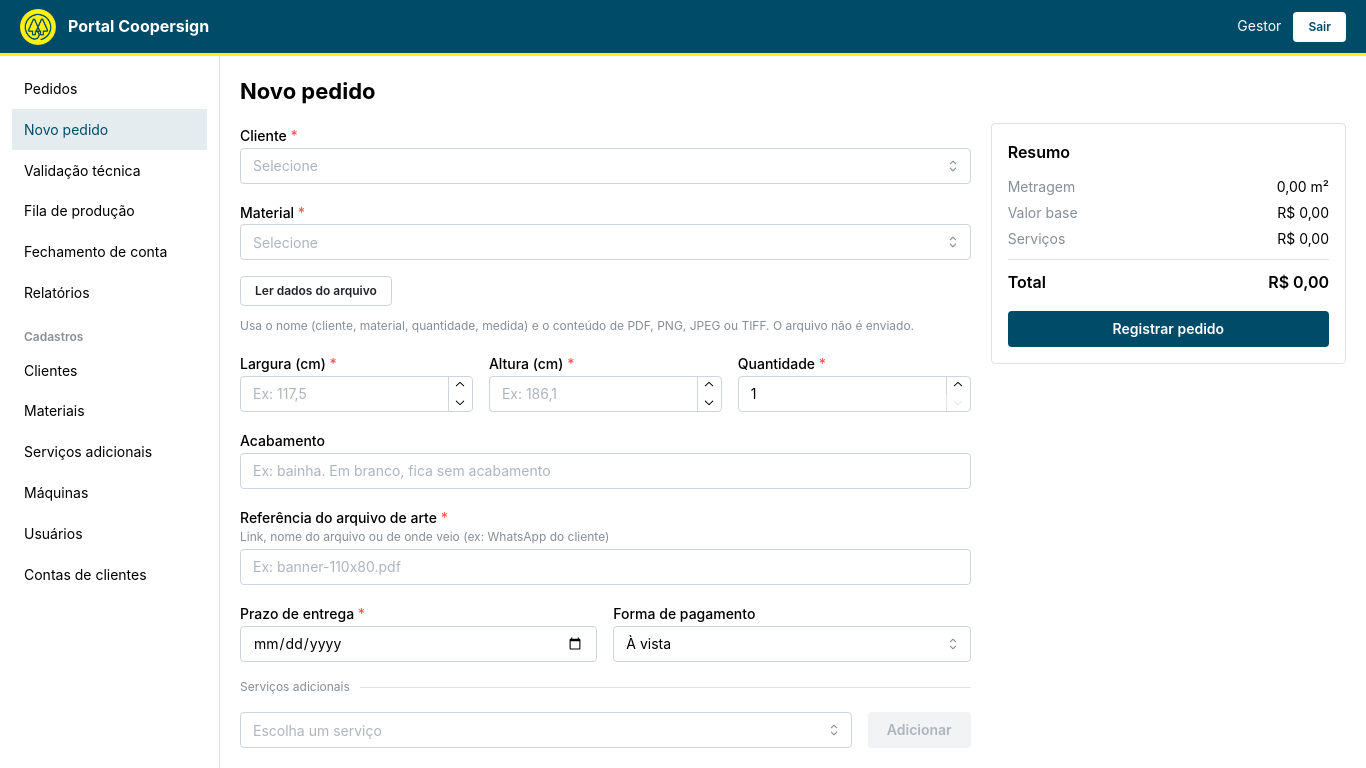
it: Novo pedido (RF05, RF08, RF09, RN16) › calcula na hora e cobra o mínimo de 1 m² por unidade
Expected: the heading "Novo pedido" is shown, [240,78,376,104]
Click the field labelled "Material *": (605, 242) [240,224,971,260]
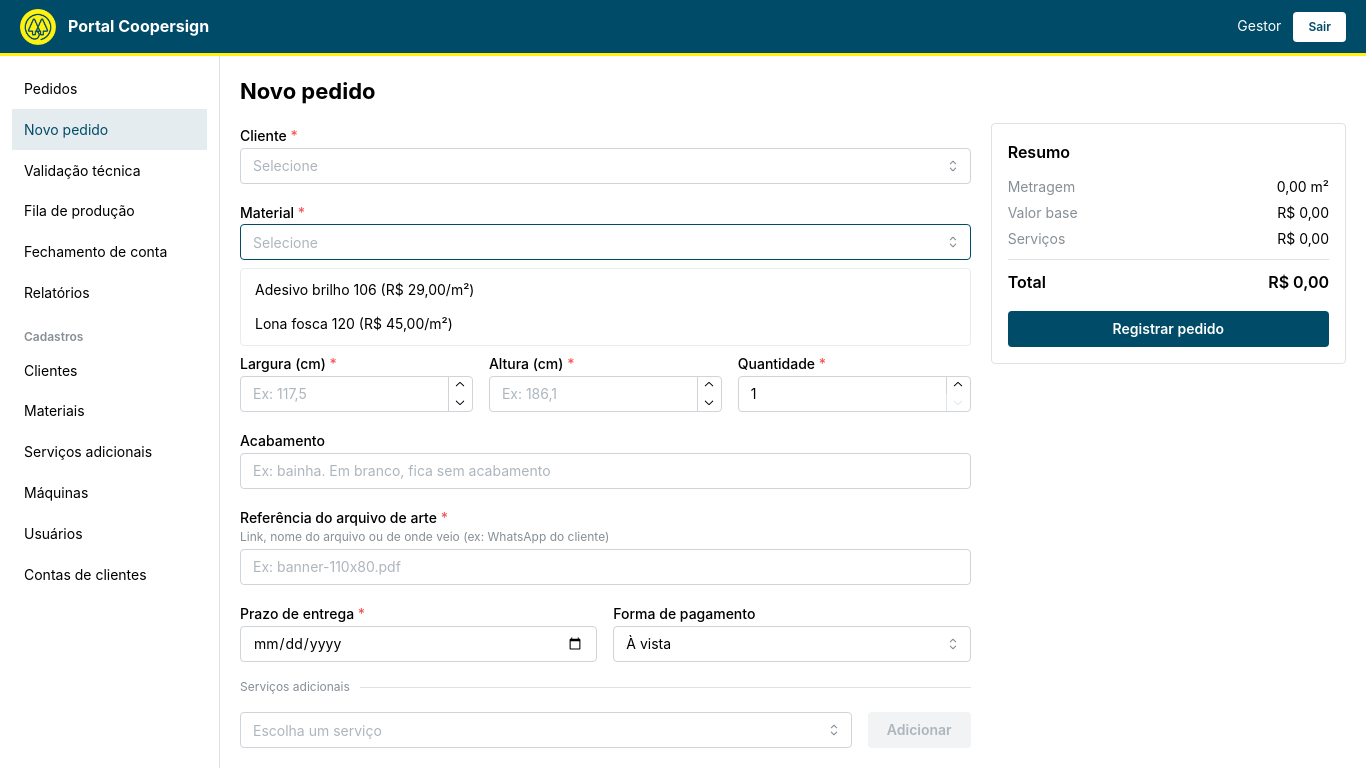
Click the option "Adesivo brilho 106 (R$ 29,00/m²)": (365, 290) [255,281,474,298]
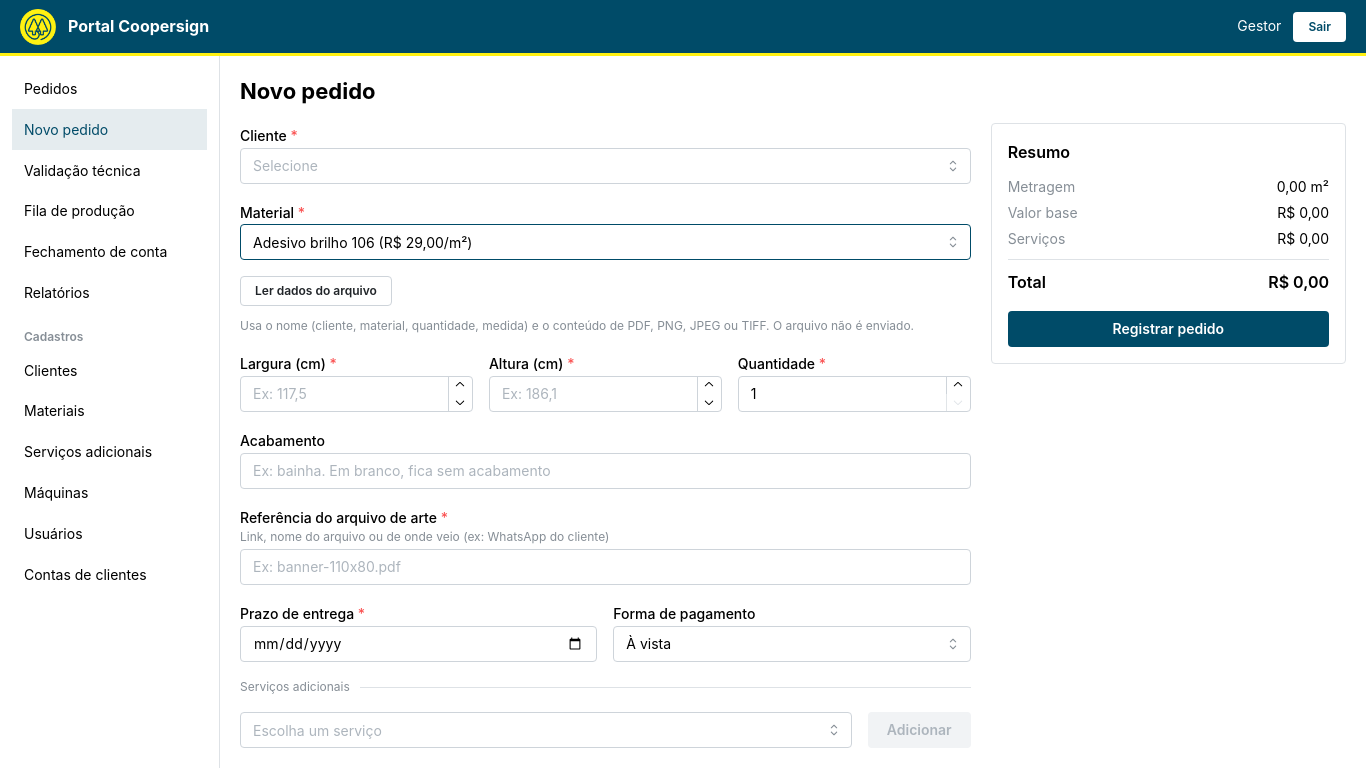
In the field labelled "Largura (cm) *": (356, 394) [240,376,473,412], type "104,1"
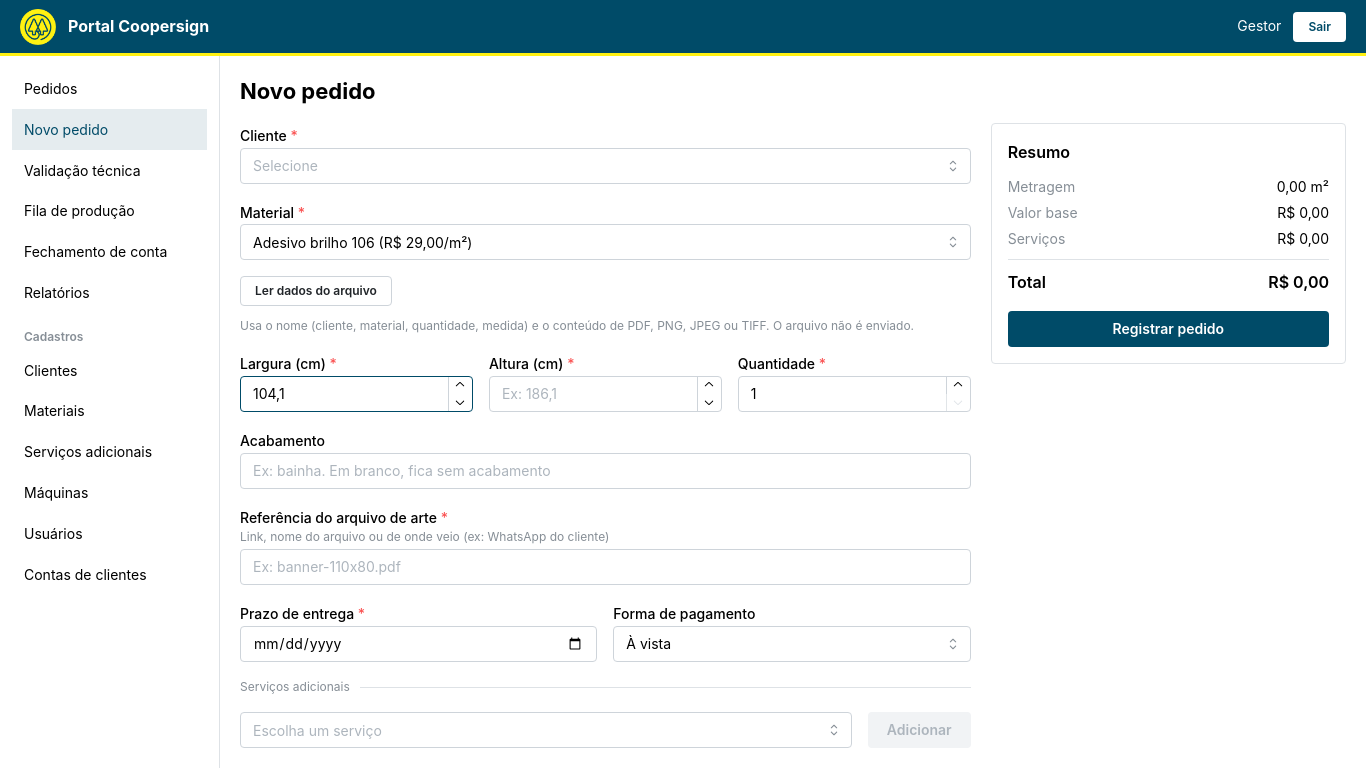
In the field labelled "Altura (cm) *": (605, 394) [489,376,722,412], type "93,5"
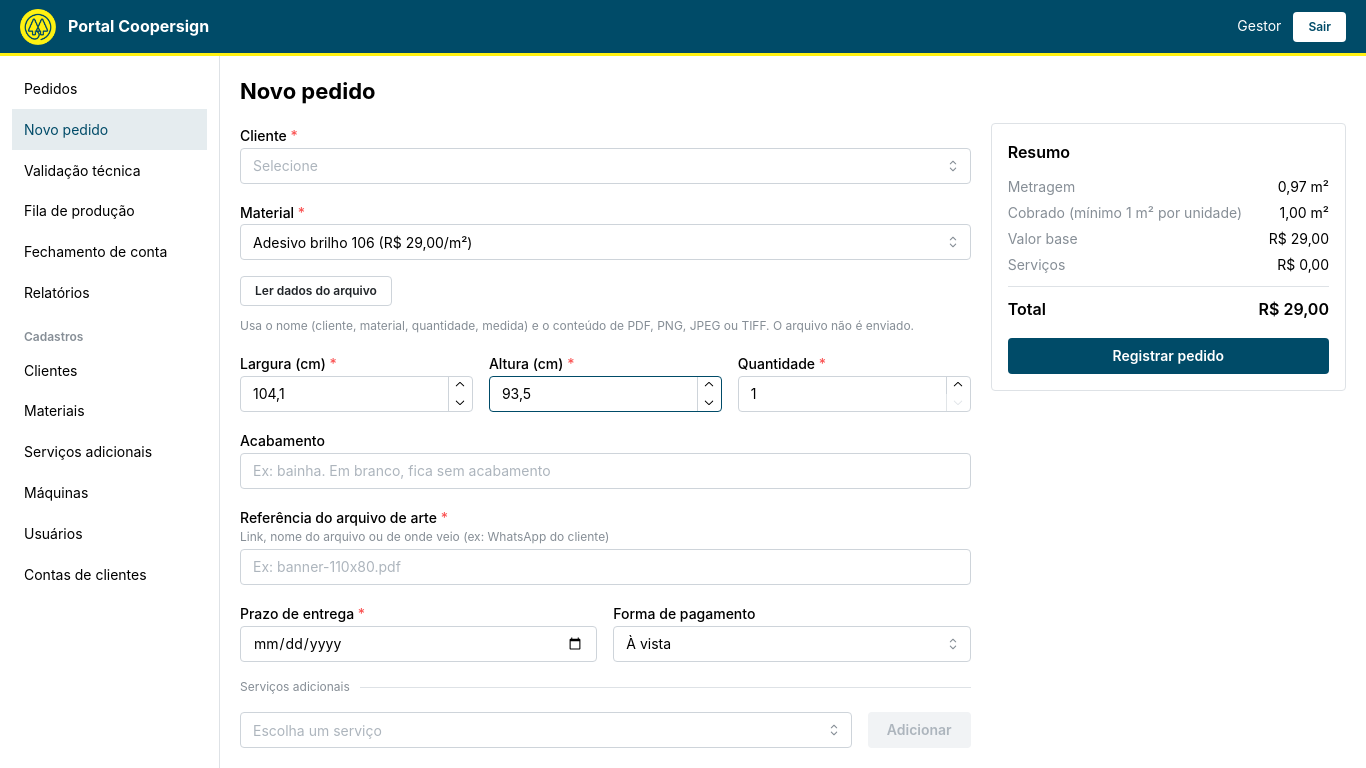
Expected: the text "0,97 m²" is shown, [1278,177,1329,197]
Expected: the text "1,00 m²" is shown, [1280,203,1329,223]
Expected: the text "R$ 29,00" in the row of "Valor base" is shown, [1269,230,1329,247]
